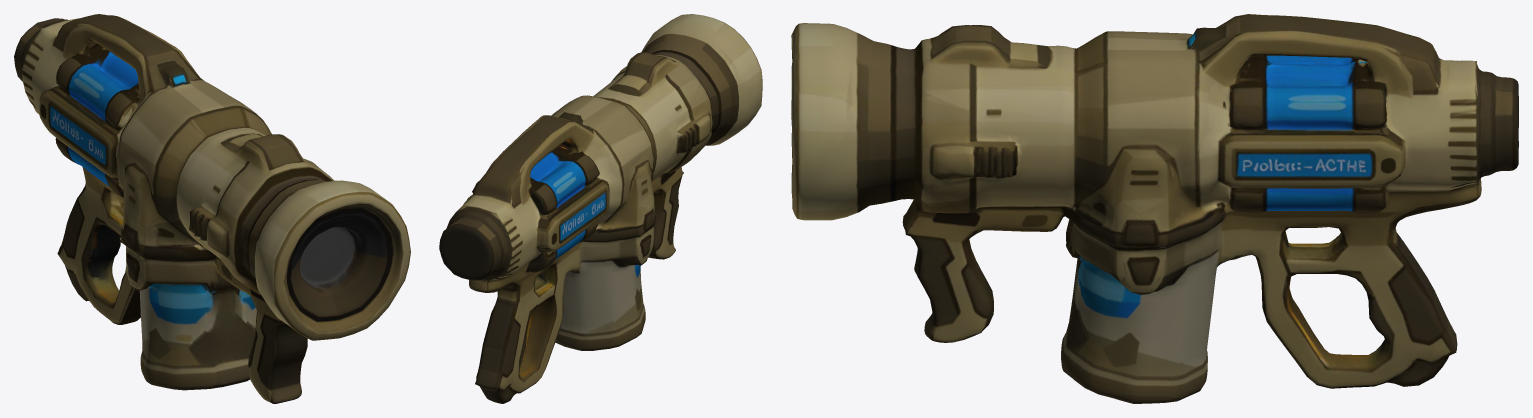
File: futuristic+pistol+3d+model.fbx
3 views of the same model, side by side, from view 1: azimuth 30°, elevation 25°; view 2: azimuth 150°, elevation 25°; view 3: azimuth 270°, elevation 25° (orthographic). The views are drawn at different scales.
Parts seen in each view (by area): view 1: tripo_node_fece3d98; view 2: tripo_node_fece3d98; view 3: tripo_node_fece3d98.
Boxes of the visible parts, x1,y1,x2,y2 form: tripo_node_fece3d98: (14, 14, 410, 403); tripo_node_fece3d98: (439, 14, 762, 403); tripo_node_fece3d98: (791, 14, 1518, 403).
Size of the model in its own units: 0.2813 by 0.5479 by 0.9992.
1 material, 1 textured.
